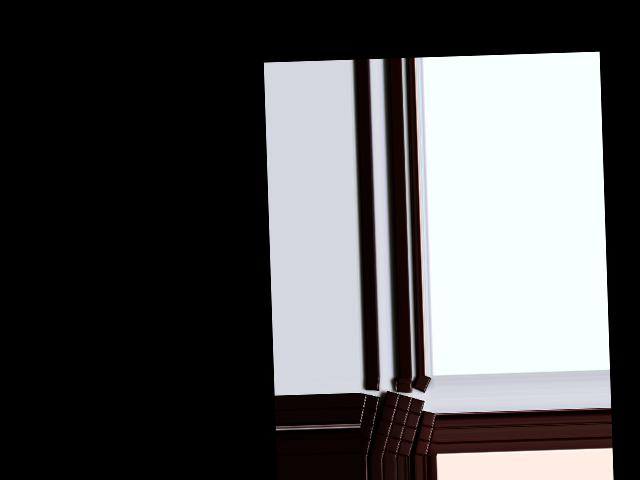chocolate: (369, 390, 427, 458)
